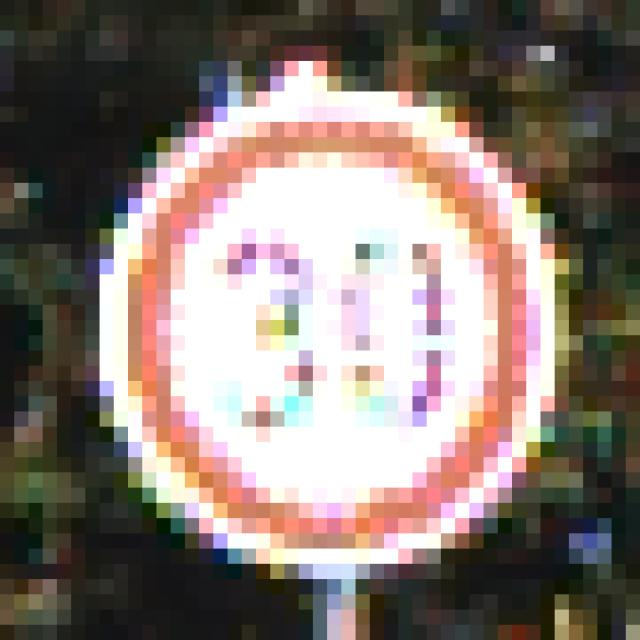Speed Limit -30-: (78, 69, 562, 556)
